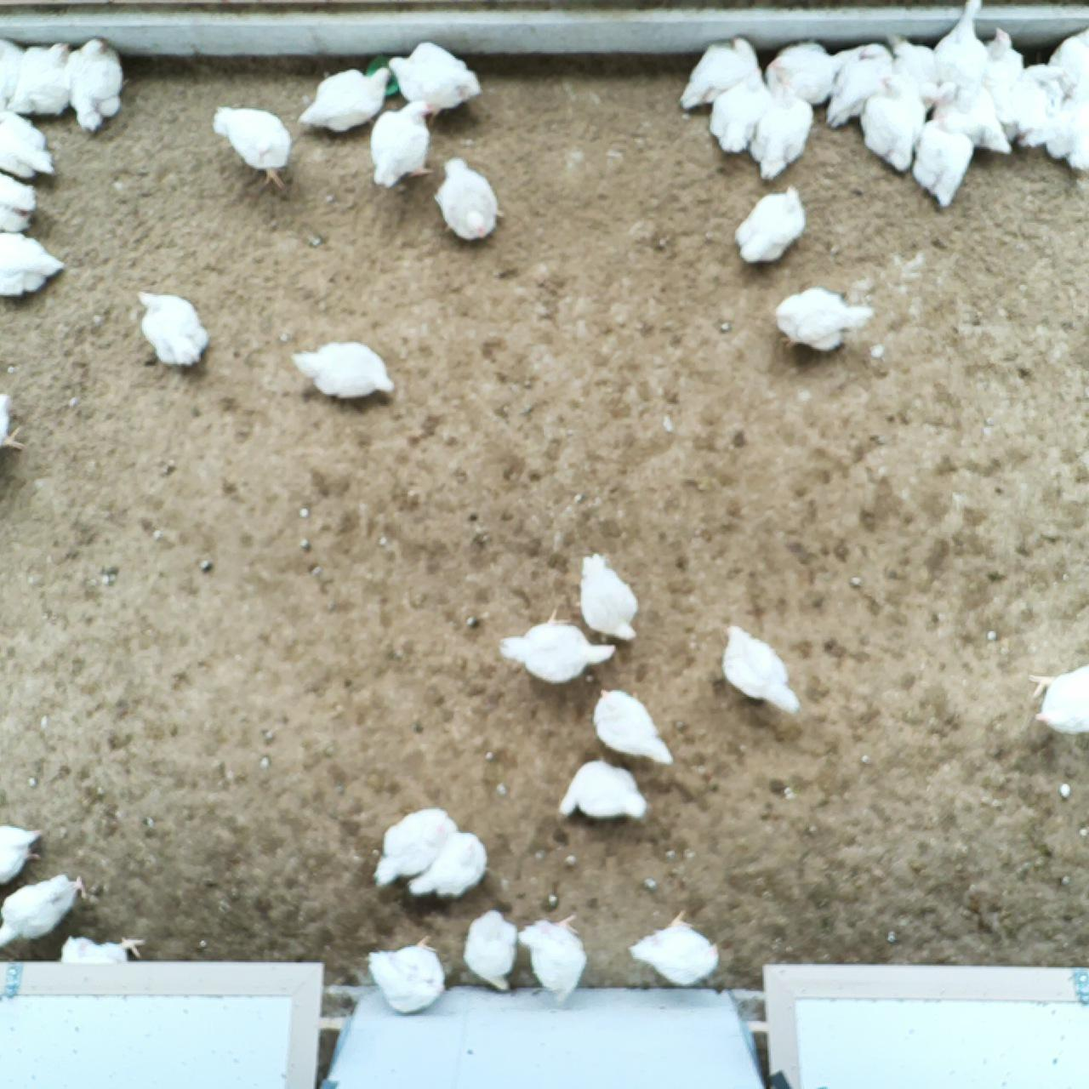chicken: (497, 606, 619, 687), (209, 100, 295, 194), (627, 904, 721, 990), (718, 622, 803, 716), (288, 337, 397, 408), (511, 910, 598, 998), (369, 809, 464, 888), (385, 40, 485, 115), (365, 99, 443, 194), (365, 930, 450, 1017), (0, 869, 89, 951), (858, 69, 927, 173), (593, 686, 677, 769), (431, 154, 508, 244), (773, 282, 873, 351), (675, 32, 761, 111), (936, 80, 1017, 162), (550, 756, 652, 821), (297, 65, 394, 133), (134, 286, 211, 371), (405, 829, 491, 904), (819, 42, 890, 131), (730, 183, 806, 265), (745, 92, 815, 181), (576, 550, 640, 645), (66, 37, 128, 134), (4, 38, 74, 121), (1023, 657, 1089, 744), (707, 65, 767, 156), (980, 27, 1026, 144), (460, 907, 520, 994), (0, 229, 70, 302), (763, 37, 834, 107), (938, 0, 993, 88), (922, 121, 972, 211), (886, 31, 944, 107), (1018, 105, 1089, 167), (1013, 61, 1070, 138), (0, 110, 58, 185), (0, 818, 43, 889), (60, 930, 147, 965), (1049, 26, 1089, 97), (0, 170, 43, 233), (0, 390, 29, 455), (0, 36, 24, 102)
